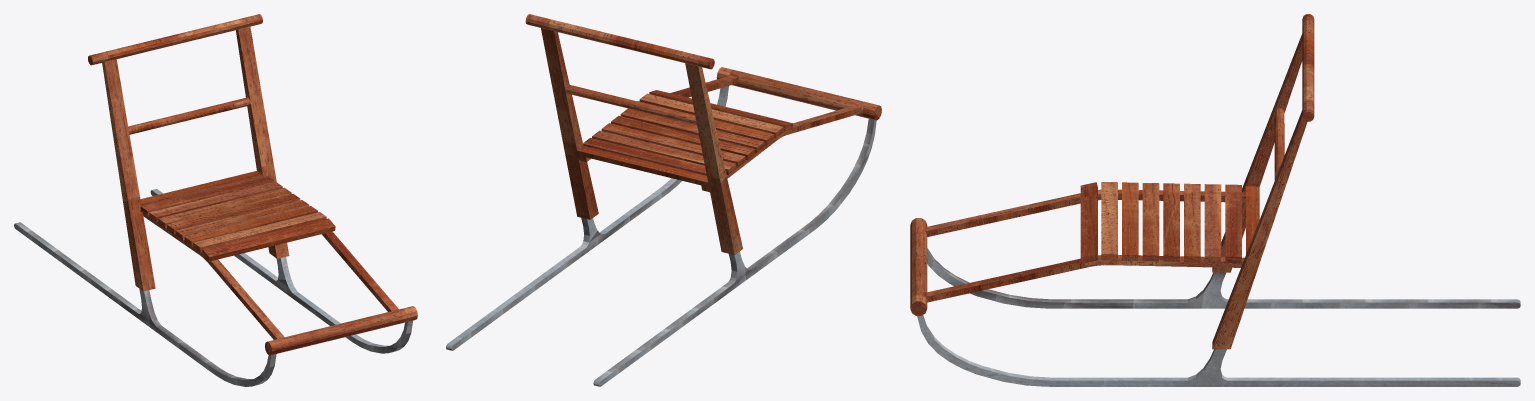
File: Spark.glb
The picture shows the model from 3 angles, left to right: view 1: azimuth 30°, elevation 25°; view 2: azimuth 150°, elevation 25°; view 3: azimuth 270°, elevation 25°; orthographic projection. The views are drawn at different scales.
Visible parts, largest first — view 1: Spark; view 2: Spark; view 3: Spark.
Boxes of the visible parts, box(x1,y1,x2,y2) form: Spark: box(14, 14, 417, 386); Spark: box(446, 14, 881, 386); Spark: box(910, 14, 1520, 386).
Size of the model in its own units: 4.2 by 5.7 by 11.11.
Materials: 2 (2 with a texture image).
